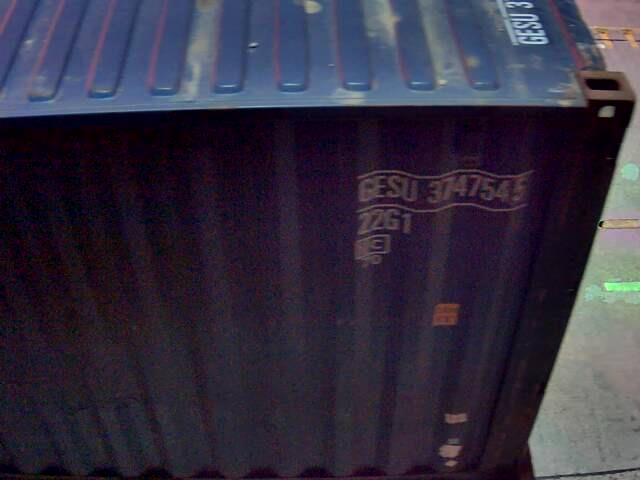container_no_door: (25, 133, 486, 463)
